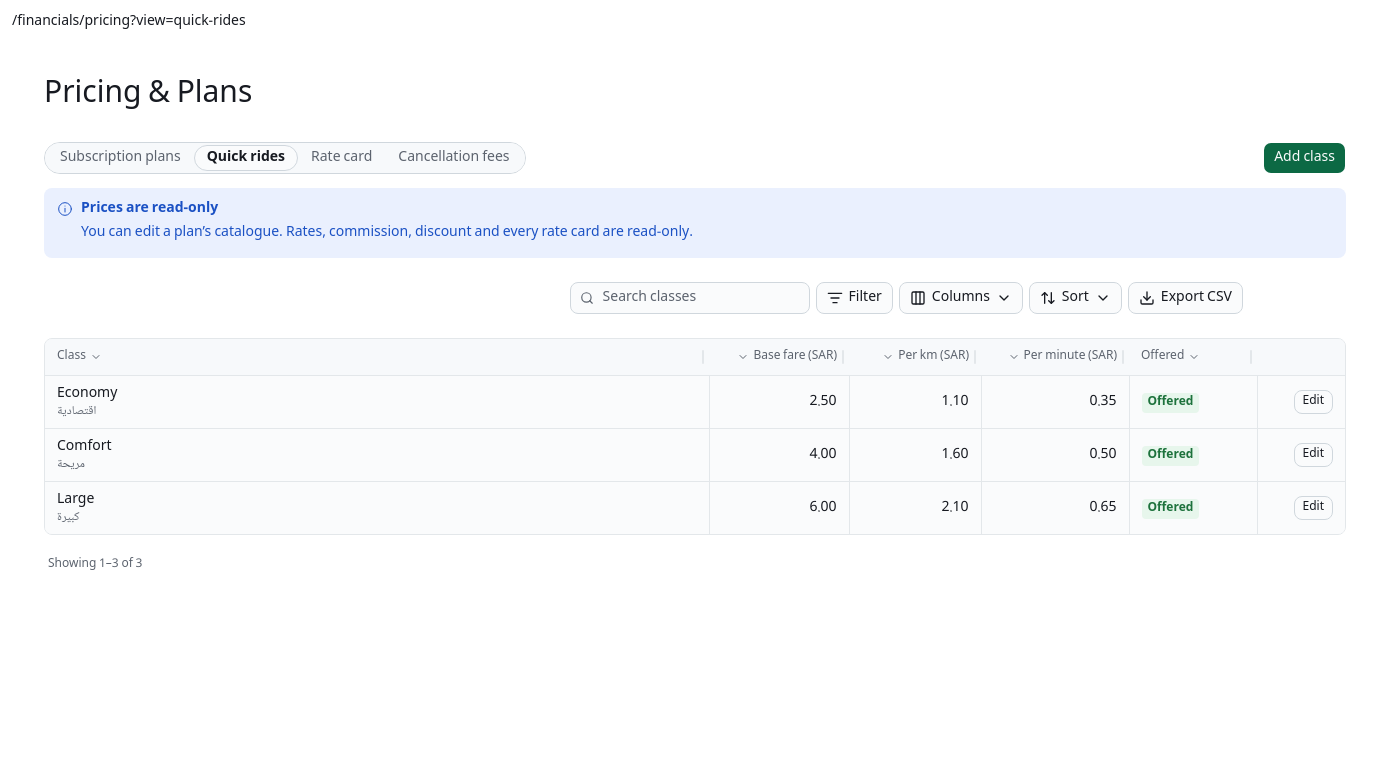
Scenario: §12 — a quick-ride class is edited in the plan editor’s shape › the Quick rides row opens the class editor on that class
The image size is (1378, 780).
Click the text "Comfort". click: [84, 447]
box: [57, 435, 112, 459]
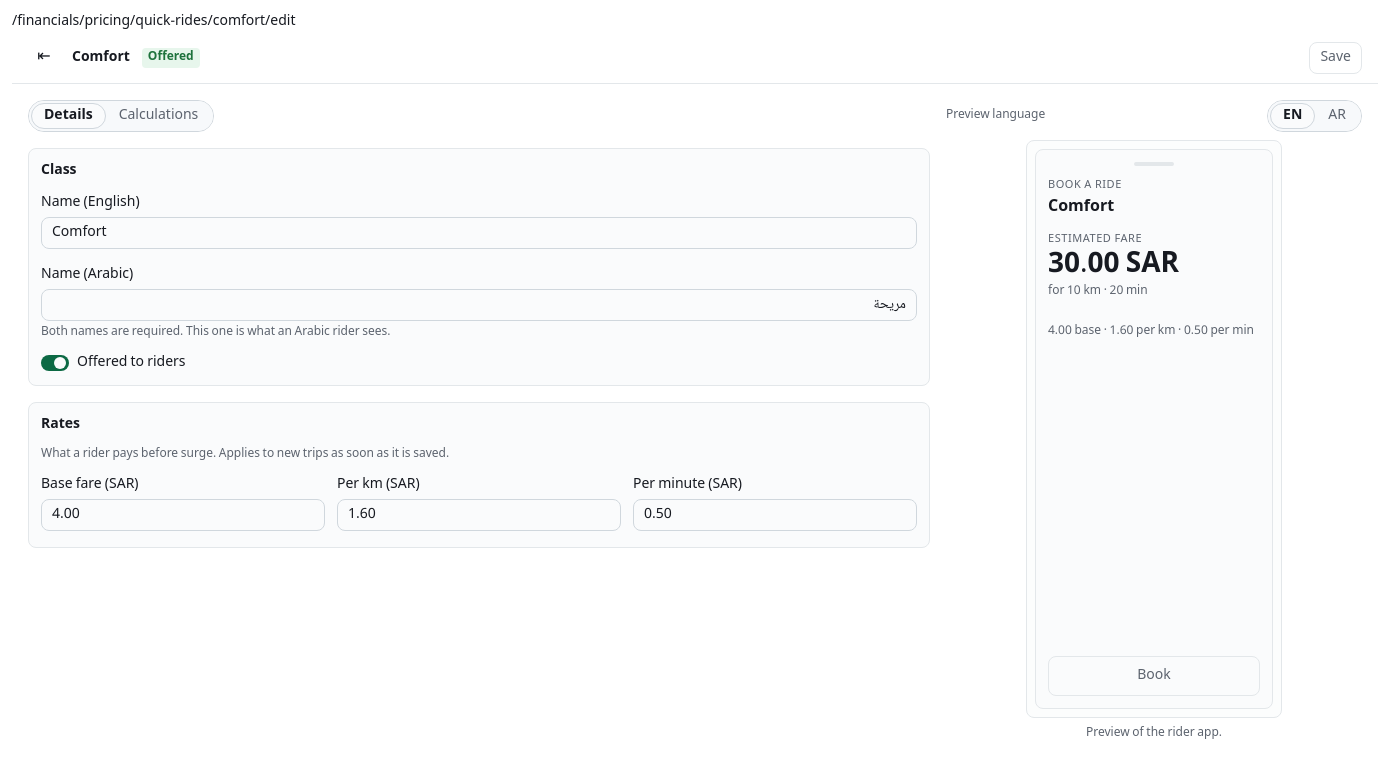
Expected: the heading "Class" is shown, [41, 159, 77, 183]
Expected: the field labelled "Name (English)" holds "Comfort", [41, 217, 917, 249]
